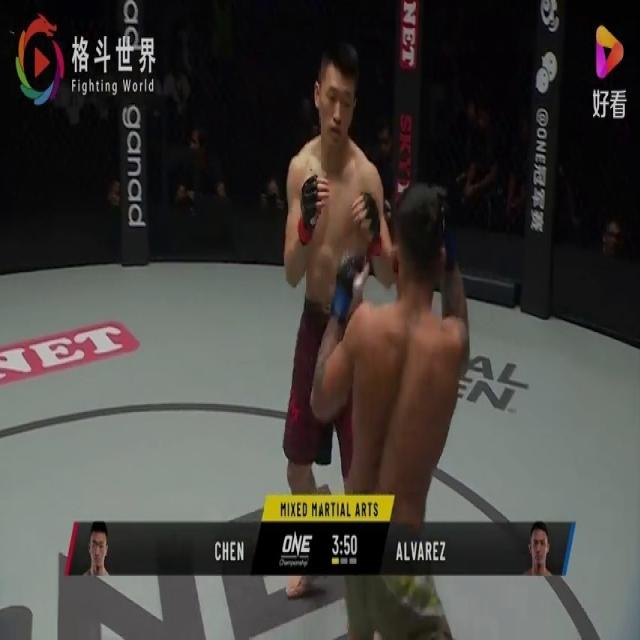fight: (282, 34, 471, 640)
